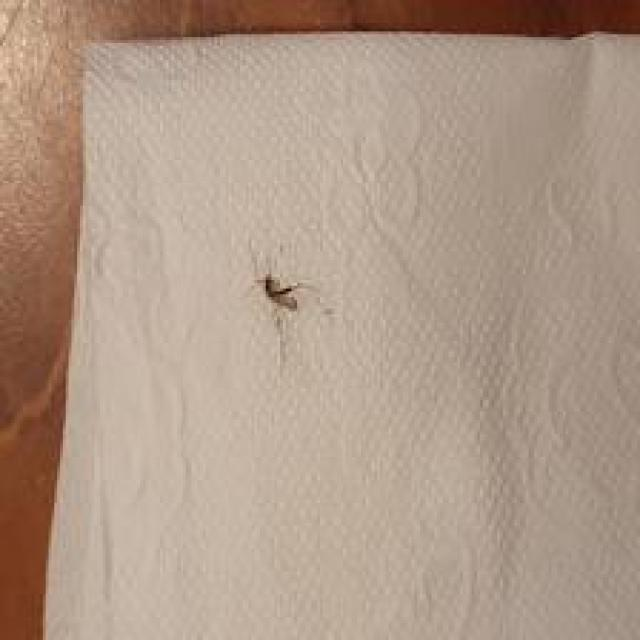Culex: (262, 272, 302, 312)
